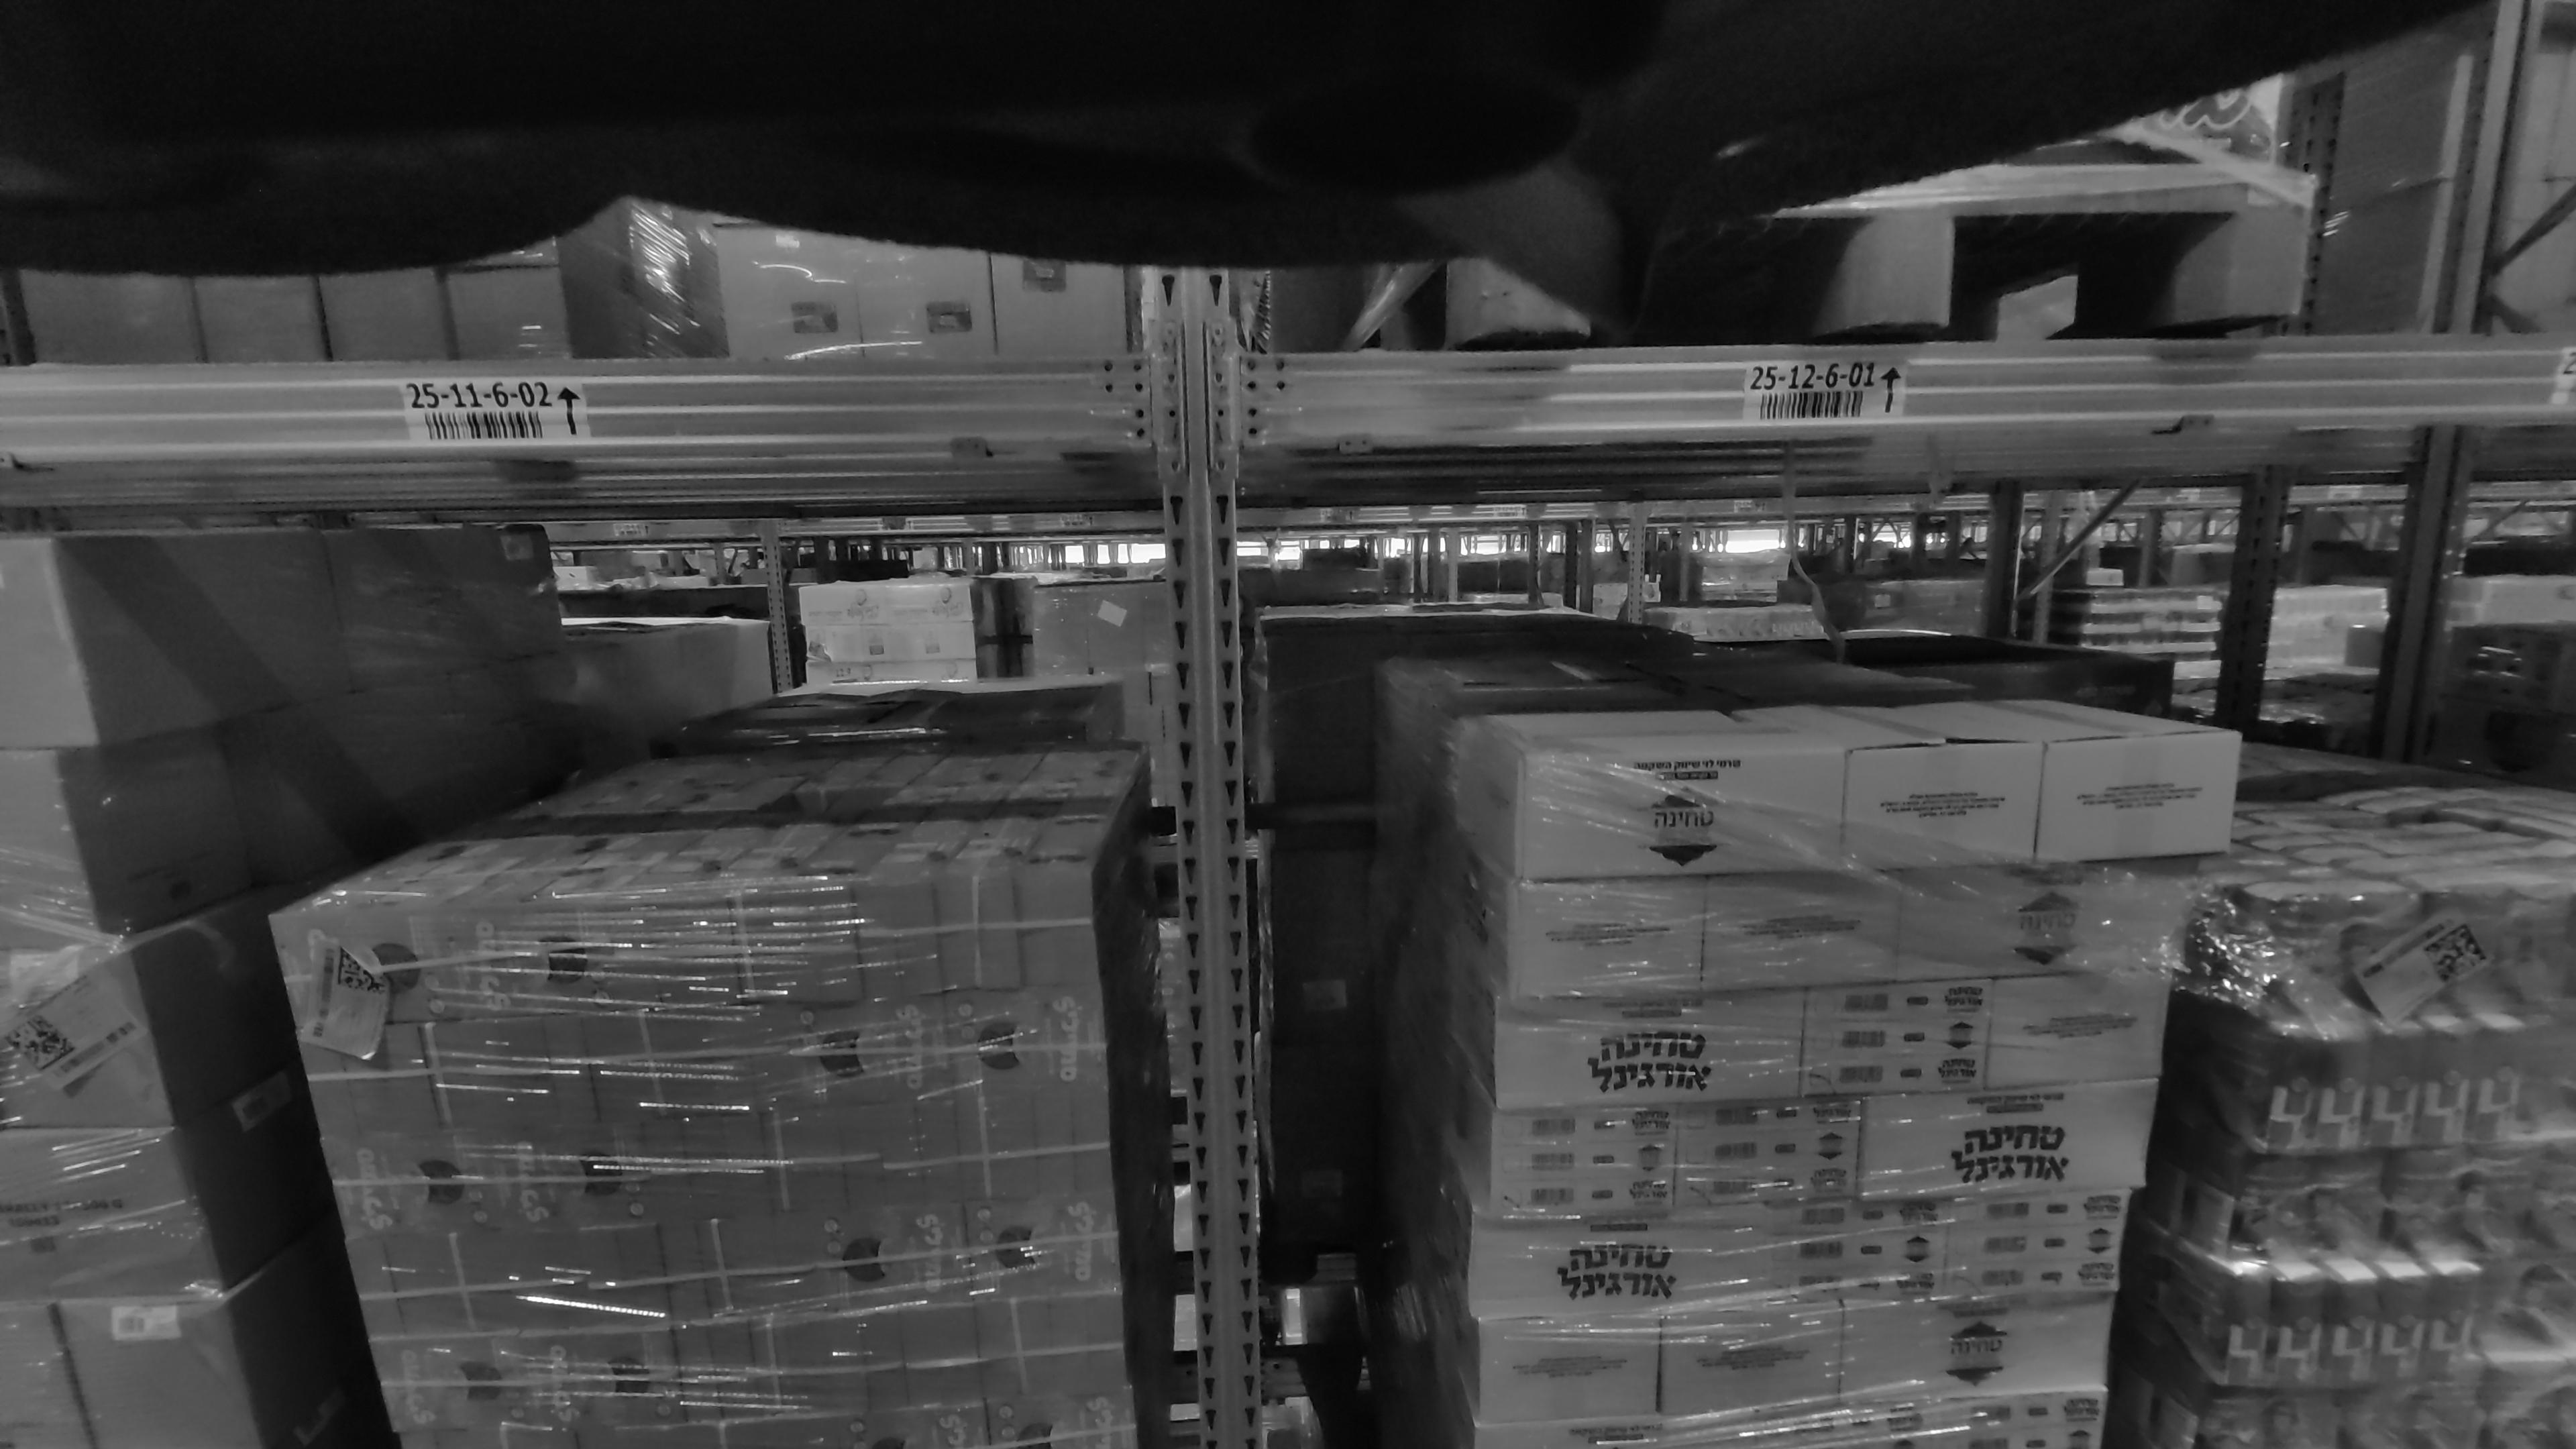empty-shelf: (120, 221, 1010, 382)
